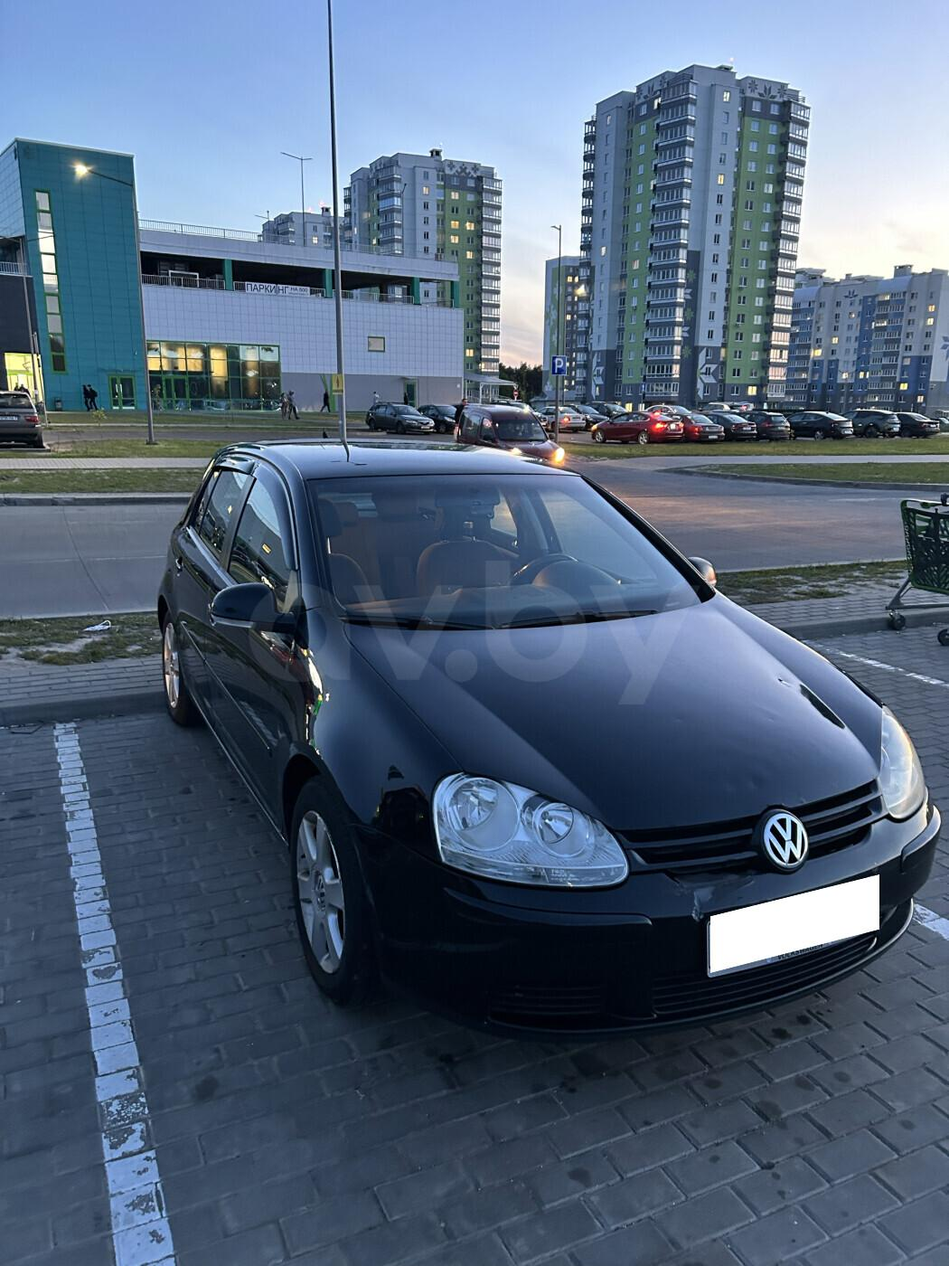Golf_2003-2009: (160, 435, 934, 1024)
